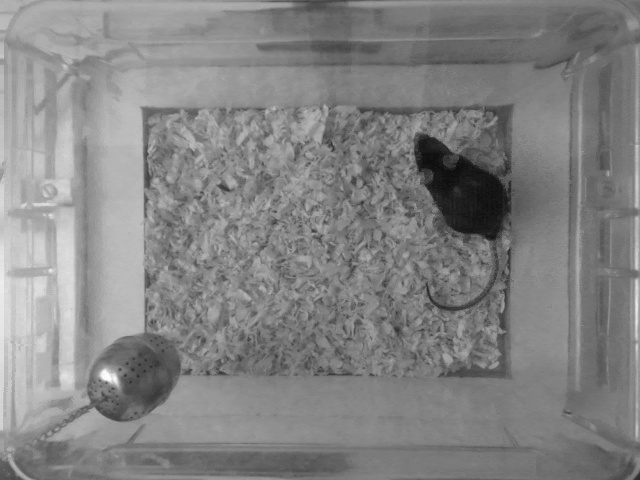mice: (409, 129, 510, 311)
